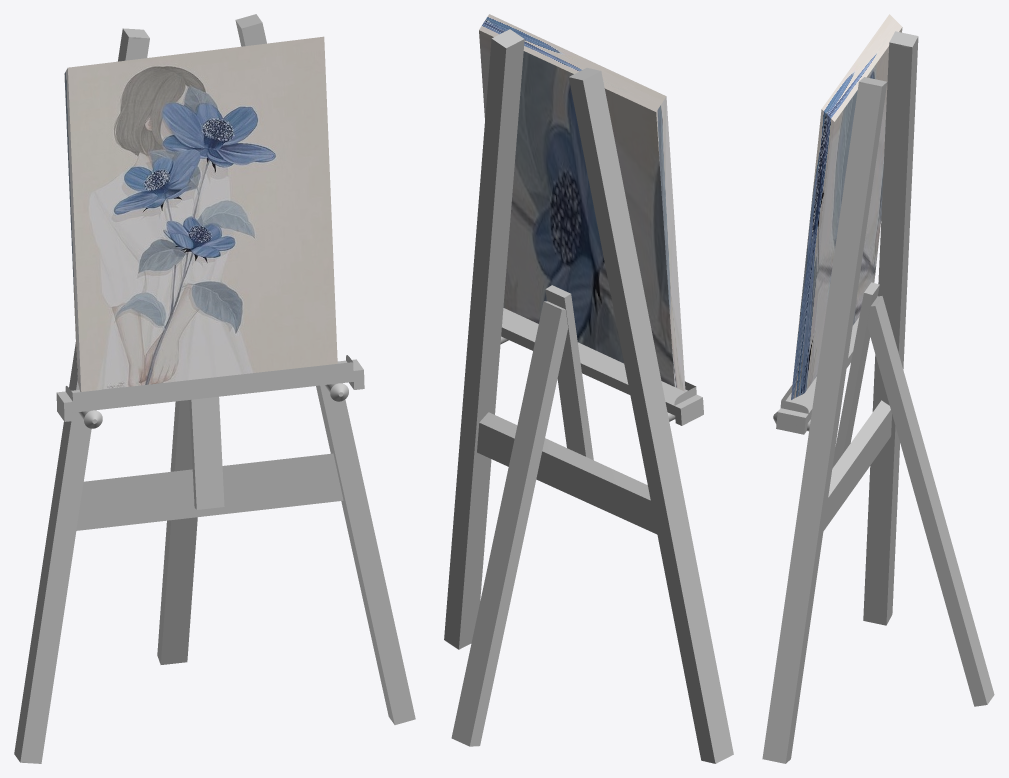
Rendered from canvas.fbx.
The picture shows the model from 3 angles, left to right: view 1: azimuth 30°, elevation 25°; view 2: azimuth 150°, elevation 25°; view 3: azimuth 270°, elevation 25°; orthographic projection. The views are drawn at different scales.
Parts seen in each view (by area): view 1: canvas, easel; view 2: easel, canvas; view 3: easel, canvas.
Part boxes in pixels (box(x1,y1,x2,y2)): canvas: box(64, 36, 337, 391); easel: box(14, 14, 415, 763); easel: box(444, 29, 733, 763); canvas: box(479, 14, 685, 391); easel: box(762, 31, 994, 763); canvas: box(791, 14, 902, 399).
Size of the model in its own units: 52.18 by 159 by 82.62.
